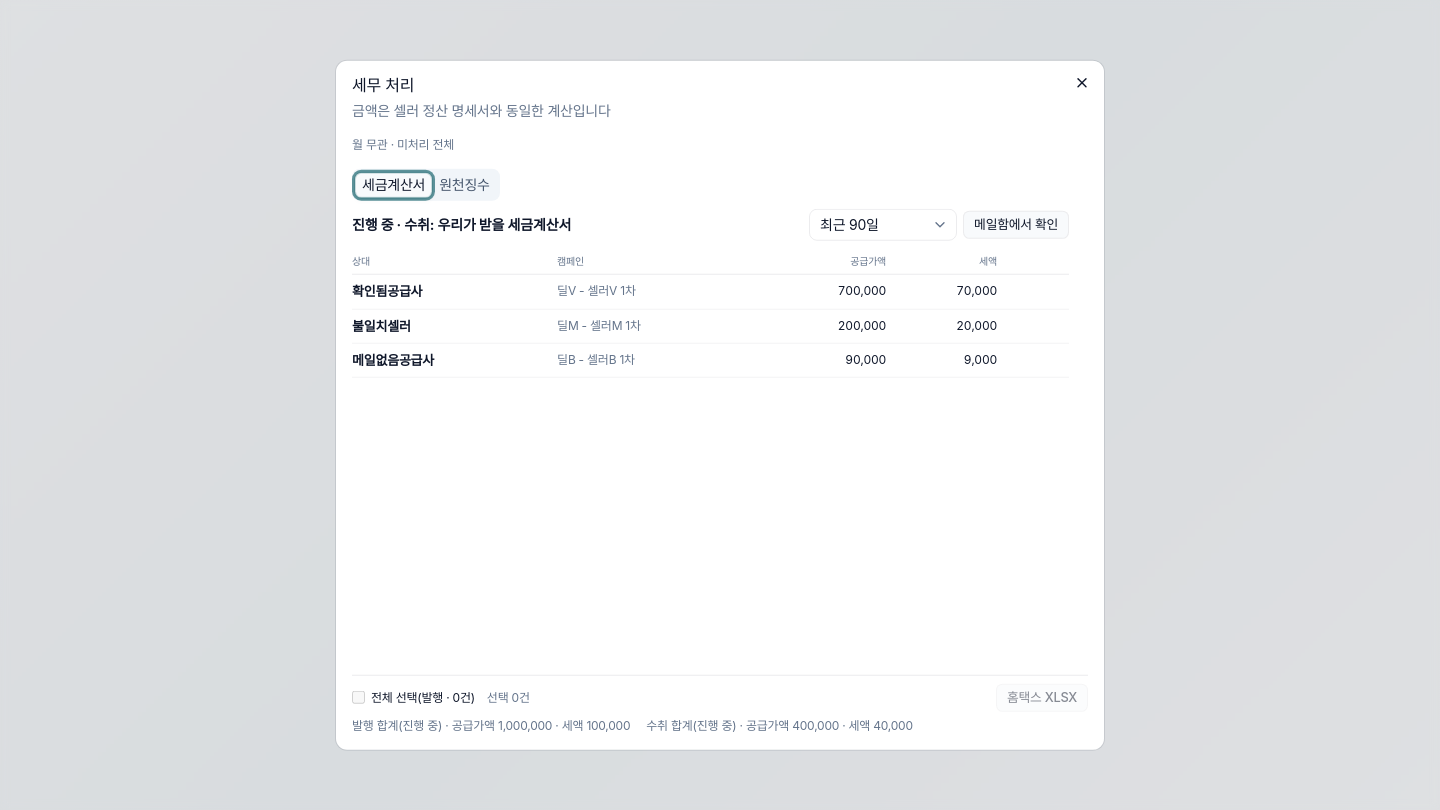
Scenario: 세무 처리 다이얼로그 — 수취 메일함 확인 › 버튼을 누르면 스캔이 돌고, VERIFIED 건은 승인번호·작성일자·금액을 보여준다
Expected: the text "확인됨공급사" is shown, [352, 283, 422, 299]
Click the button "메일함에서 확인": [1016, 225] box [963, 211, 1069, 239]
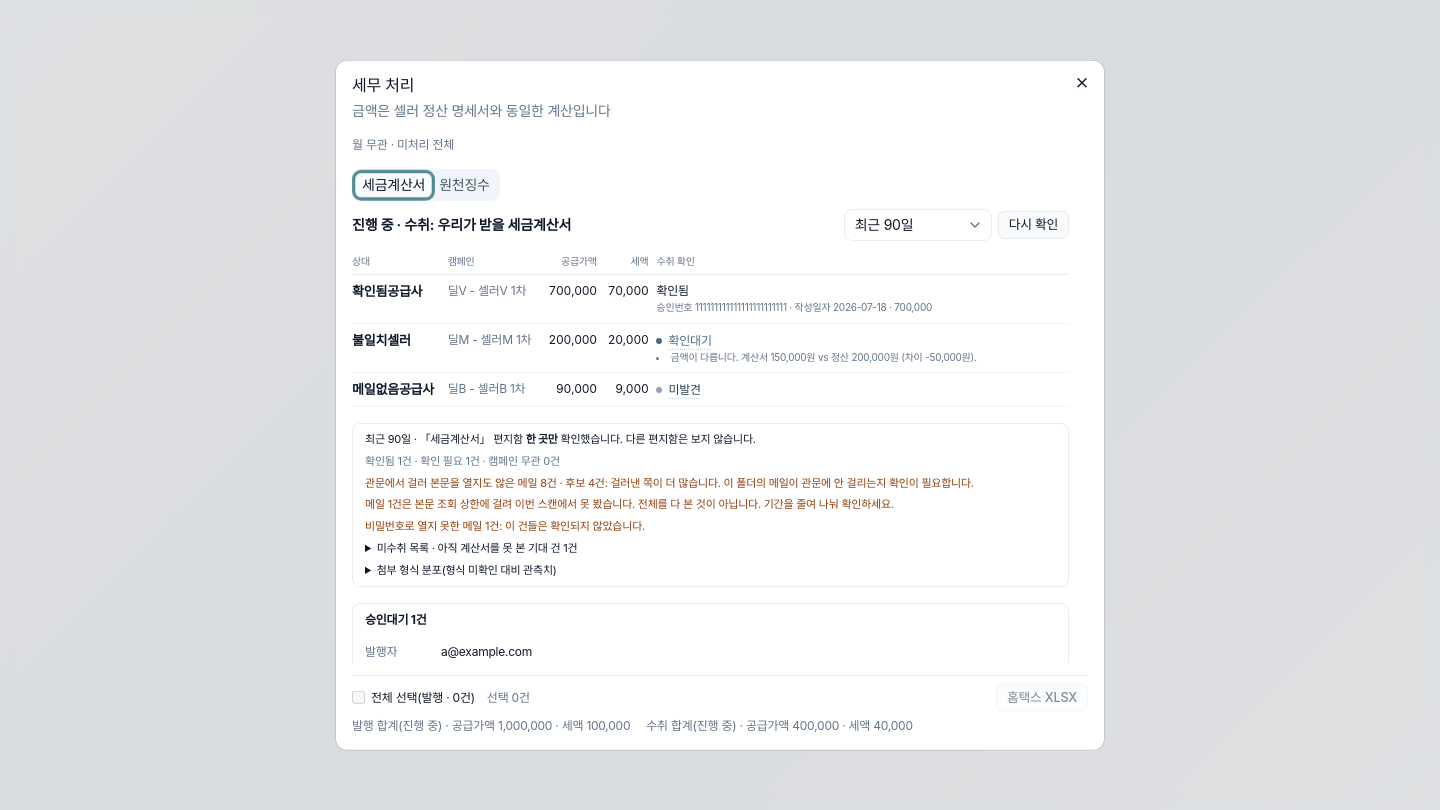
Expected: the text "확인됨" is shown, [656, 283, 689, 298]
Expected: the text "승인번호 111111111111111111111111 · 작성일자 2026-07-18 · 700,000" is shown, [656, 301, 932, 313]
